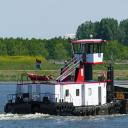tugboat: (5, 34, 125, 120)
